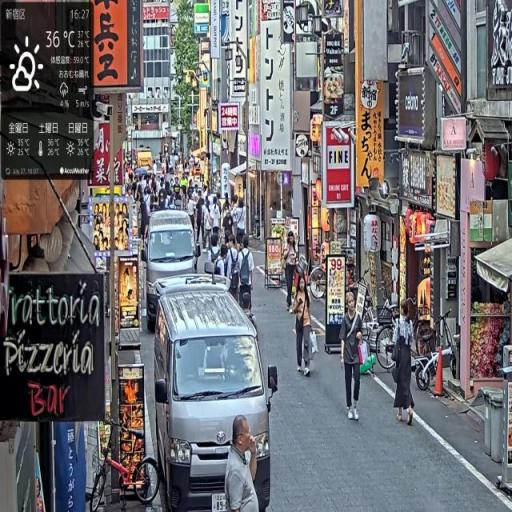person: (224, 414, 263, 512), (390, 298, 417, 428), (340, 291, 366, 423), (293, 271, 317, 379), (238, 235, 255, 316), (284, 231, 300, 315)
